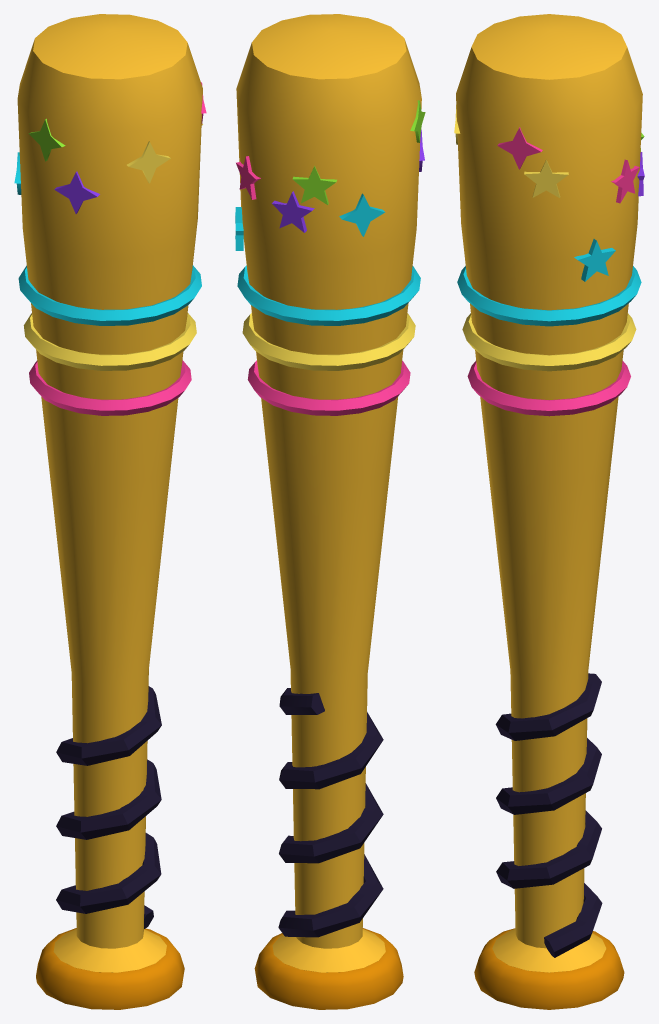
Rendered from bat_gold.obj.
The picture shows the model from 3 angles, left to right: view 1: azimuth 30°, elevation 25°; view 2: azimuth 150°, elevation 25°; view 3: azimuth 270°, elevation 25°; orthographic projection.
Parts seen in each view (by area): view 1: bat_gold; view 2: bat_gold; view 3: bat_gold.
Boxes of the visible parts, x1,y1,x2,y2 form: bat_gold: [14, 14, 206, 1009]; bat_gold: [235, 14, 425, 1009]; bat_gold: [454, 14, 644, 1009].
Size of the model in its own units: 0.7407 by 4.04 by 0.734.
Materials: 1 (1 with a texture image).
